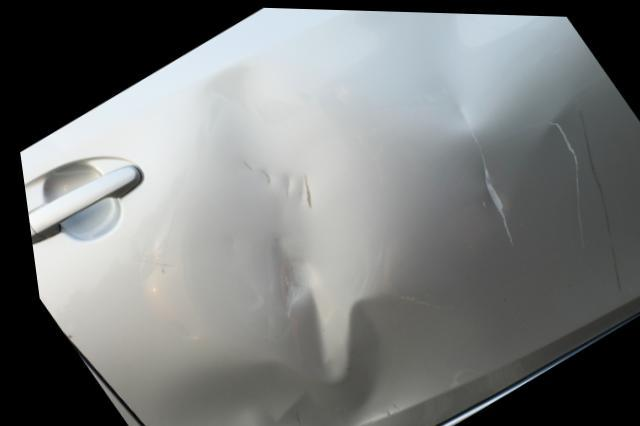dent: (139, 8, 539, 426), (469, 160, 505, 240)
scratch: (574, 109, 618, 290), (545, 118, 582, 246)
